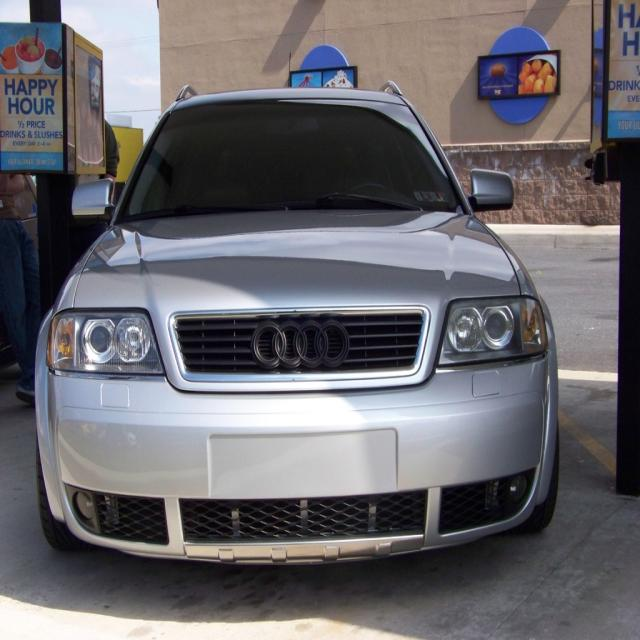Car: (34, 80, 558, 566)
